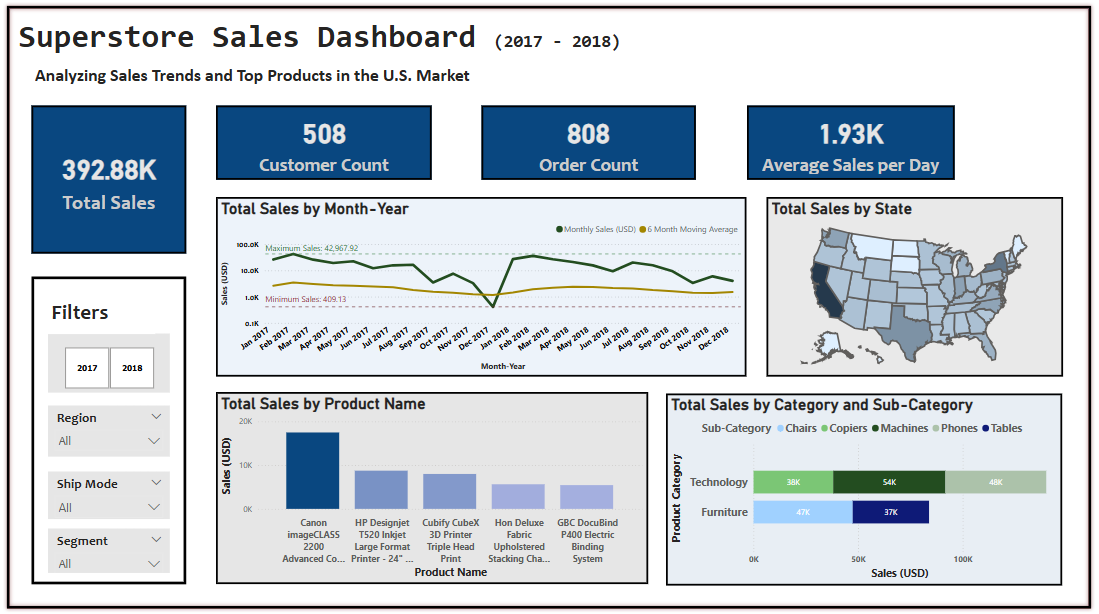

This screenshot's page, from the dashboard's own definition file:
{"tool":"powerbi","page":{"name":"Page 1","canvas":[1700,1000],"ordinal":0},"visuals":[{"type":"shape","box":[74.1,452,232.2,461.8],"z":0},{"type":"shape","box":[31.5,40.5,1637.2,915.3],"z":1000},{"type":"card","fields":{"Values":["Cleaned_Superstore.Total Sales"]},"box":[74.1,195.1,232.2,222.3],"z":2000},{"type":"card","fields":{"Values":["Cleaned_Superstore.Order Count"]},"box":[748.3,195.1,321.1,111.1],"z":3000},{"type":"card","fields":{"Values":["Cleaned_Superstore.Customer Count"]},"box":[350.7,195.1,323.5,111.1],"z":4000},{"type":"card","fields":{"Values":["Cleaned_Superstore.Average Sales per Day"]},"box":[1146,195.1,311.2,111.1],"z":5000},{"type":"lineChart","title":"Total Sales by Month-Year","fields":{"Y":["Cleaned_Superstore.Total Sales","Cleaned_Superstore.Sales 6M MA"],"Category":["DateTable.MonthYear"]},"box":[350.7,333.4,795.3,269.2],"z":6000},{"type":"textbox","box":[49.4,59.3,1407.8,69.2],"z":7000},{"type":"actionButton","box":[0,0,100,40],"z":8000},{"type":"barChart","fields":{"Category":["Cleaned_Superstore.Category"],"Y":["Cleaned_Superstore.Total Sales"],"Series":["Cleaned_Superstore.Sub-Category"]},"box":[1025.5,627.5,593.7,287.9],"z":9000},{"type":"shapeMap","fields":{"Value":["Cleaned_Superstore.Total Sales"],"Category":["Cleaned_Superstore.State"]},"box":[1175.6,333.4,444.6,269.2],"z":10000},{"type":"slicer","fields":{"Values":["Cleaned_Superstore.Region"]},"box":[98.8,644.6,182.8,76.6],"z":11000},{"type":"slicer","fields":{"Values":["Cleaned_Superstore.Year"]},"box":[98.8,538.4,182.8,88.9],"z":12000},{"type":"slicer","fields":{"Values":["Cleaned_Superstore.Segment"]},"box":[98.8,829.8,182.8,66.7],"z":13000},{"type":"columnChart","fields":{"Category":["Cleaned_Superstore.Product Name"],"Y":["Cleaned_Superstore.Total Sales"]},"box":[350.8,625.2,647.7,287.9],"z":14000},{"type":"textbox","box":[98.8,479.1,160.5,59.3],"z":15000},{"type":"textbox","box":[74.1,128.4,975.6,42],"z":16000},{"type":"slicer","fields":{"Values":["Cleaned_Superstore.Ship Mode"]},"box":[98.8,743.4,182.8,71.6],"z":16001}]}

Visuals, with their boxes in screenshot pixels (x1, y1, x2, y2):
shape: 31 272 183 573
shape: 3 4 1071 601
card - Cleaned_Superstore.Total Sales: 31 104 183 249
card - Cleaned_Superstore.Order Count: 471 104 680 177
card - Cleaned_Superstore.Customer Count: 212 104 423 177
card - Cleaned_Superstore.Average Sales per Day: 730 104 933 177
"Total Sales by Month-Year" lineChart: 212 195 730 370
textbox: 15 16 933 61
actionButton: 0 0 48 3
barChart - Cleaned_Superstore.Category x Cleaned_Superstore.Total Sales: 652 386 1039 574
shapeMap - Cleaned_Superstore.Total Sales x Cleaned_Superstore.State: 750 195 1040 370
slicer - Cleaned_Superstore.Region: 47 398 167 448
slicer - Cleaned_Superstore.Year: 47 328 167 386
slicer - Cleaned_Superstore.Segment: 47 518 167 562
columnChart - Cleaned_Superstore.Product Name x Cleaned_Superstore.Total Sales: 212 385 634 573
textbox: 47 290 152 328
textbox: 31 61 667 88
slicer - Cleaned_Superstore.Ship Mode: 47 462 167 509
